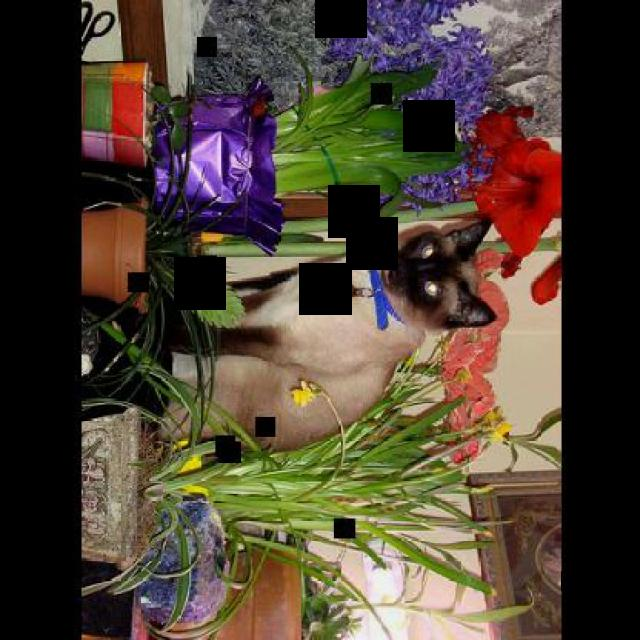unauthorized: (81, 214, 497, 455)
